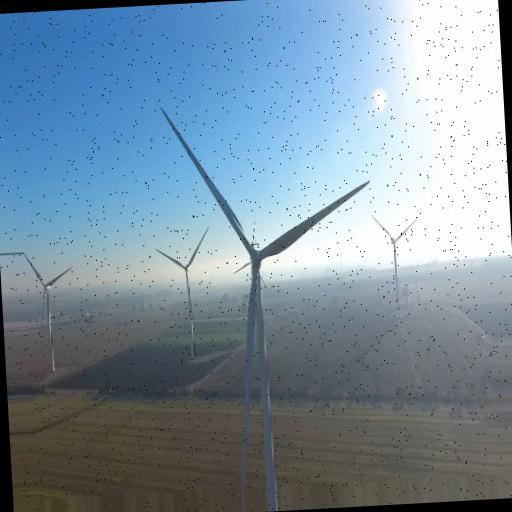wind turbine: (160, 107, 370, 496), (152, 228, 209, 358), (21, 252, 77, 369), (370, 216, 419, 300)
